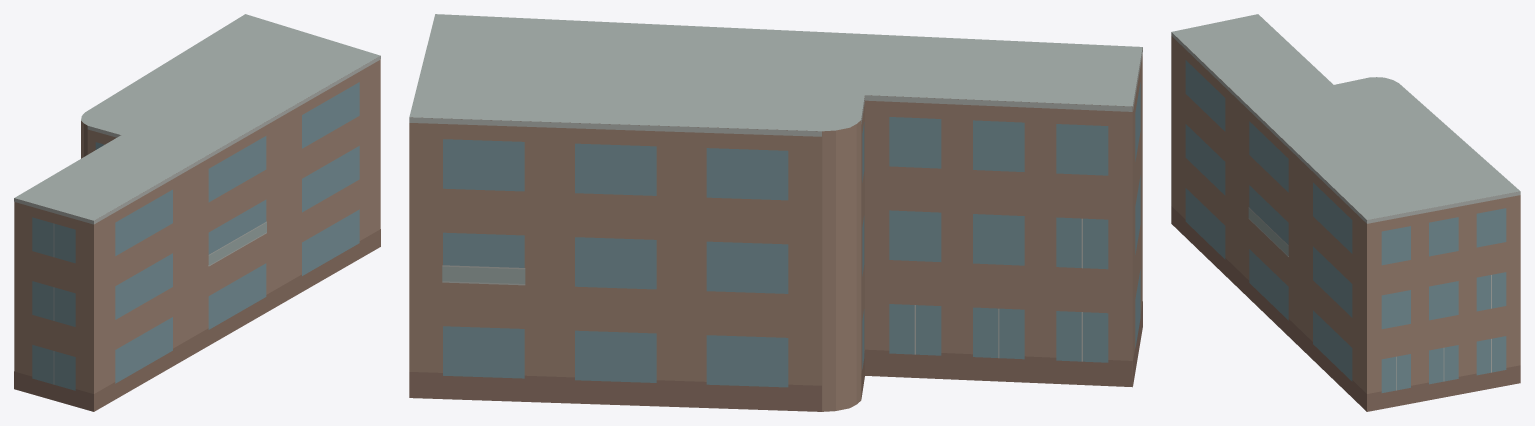
The model's file is survey-upis-32833051.glb.
3 renders of one model, left to right at view 1: azimuth 30°, elevation 25°; view 2: azimuth 150°, elevation 25°; view 3: azimuth 270°, elevation 25°, orthographic. The views are drawn at different scales.
Parts seen in each view (by area): view 1: survey-upis-32833051.tmp; view 2: survey-upis-32833051.tmp; view 3: survey-upis-32833051.tmp.
Part boxes in pixels (x1,y1,x2,y2): survey-upis-32833051.tmp: (14,14,380,411); survey-upis-32833051.tmp: (409,14,1142,411); survey-upis-32833051.tmp: (1171,14,1520,411).
Size of the model in its own units: 28.58 by 12.4 by 20.47.
